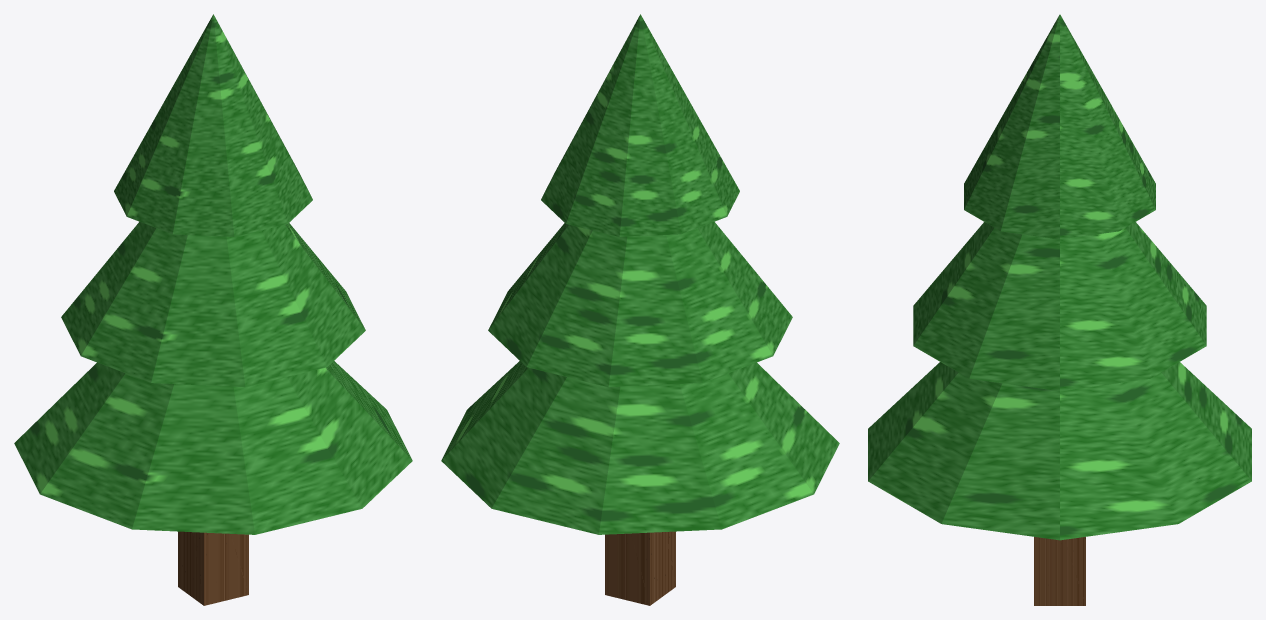
File: tree.obj
3 renders of one model, left to right at view 1: azimuth 30°, elevation 25°; view 2: azimuth 150°, elevation 25°; view 3: azimuth 270°, elevation 25°, orthographic.
Size of the model in its own units: 3.4 by 5.4 by 3.23.
2 materials, 2 textured.
